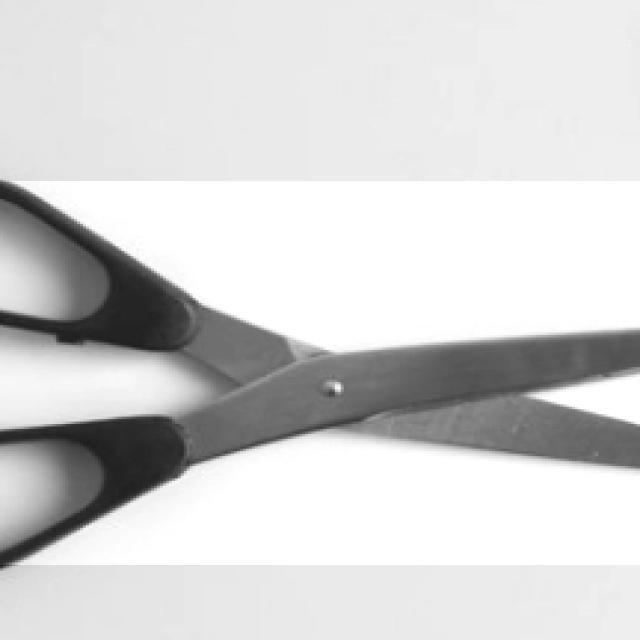tesoura: (0, 182, 639, 565)
